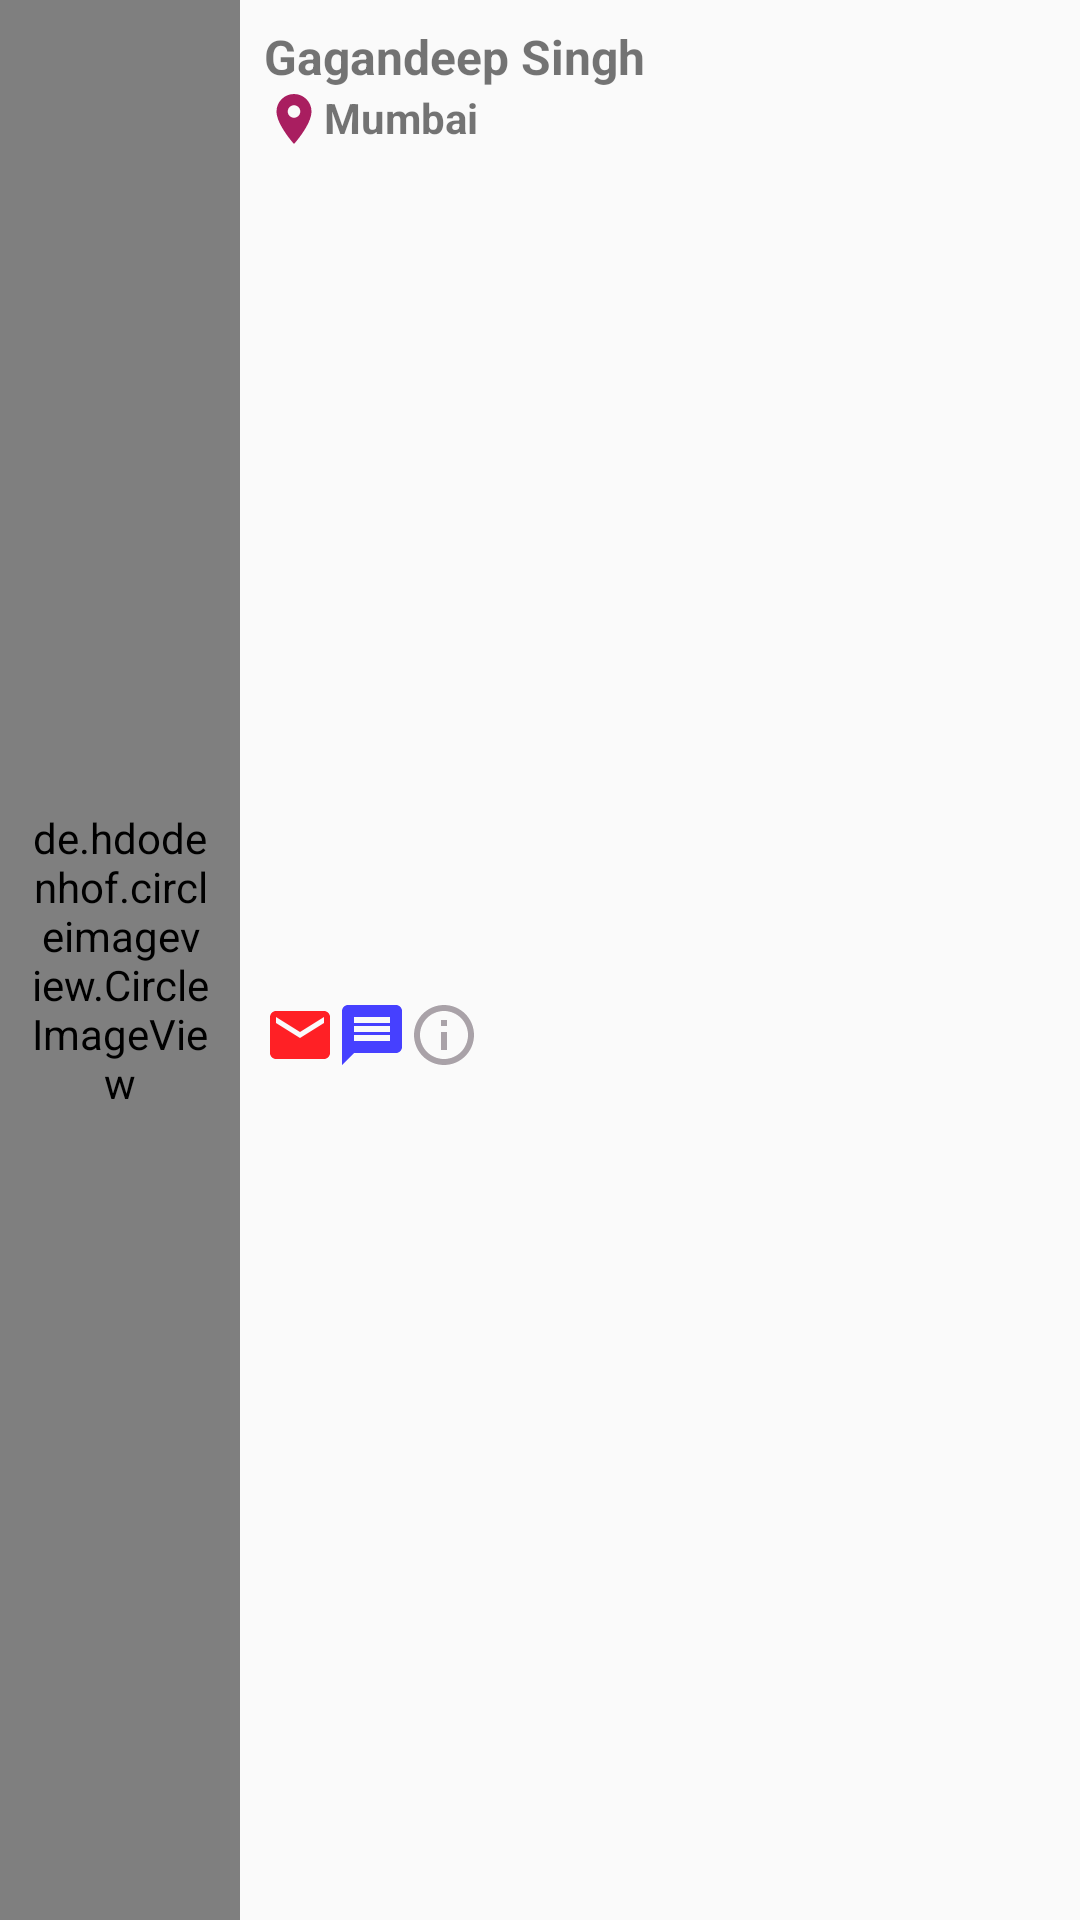

Screen size 1080x1920. Icon name, then its center in pixels as (x=x, y=y):
email: (x=300, y=1035)
info: (x=444, y=1035)
location: (x=294, y=119)
message: (x=372, y=1035)
